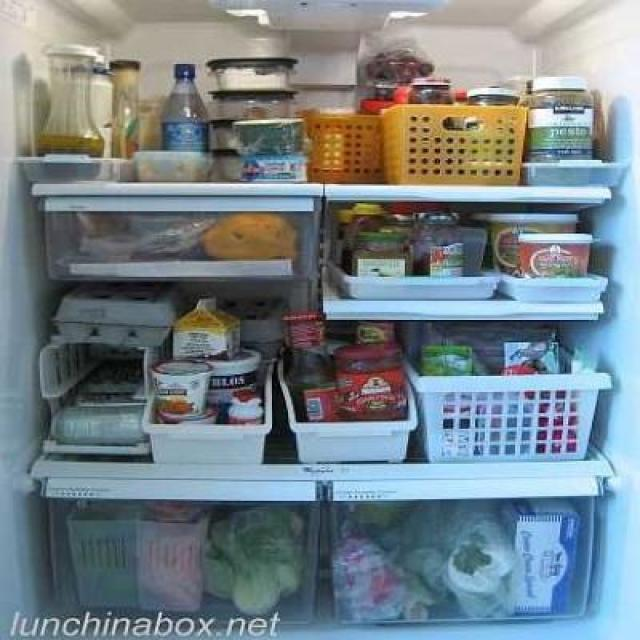refrigerator: (0, 20, 640, 623)
